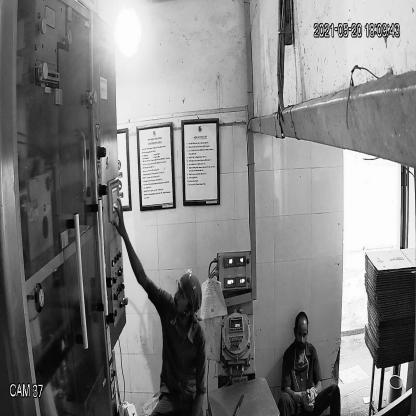no_goggles: (173, 280, 192, 308), (290, 323, 312, 343)
